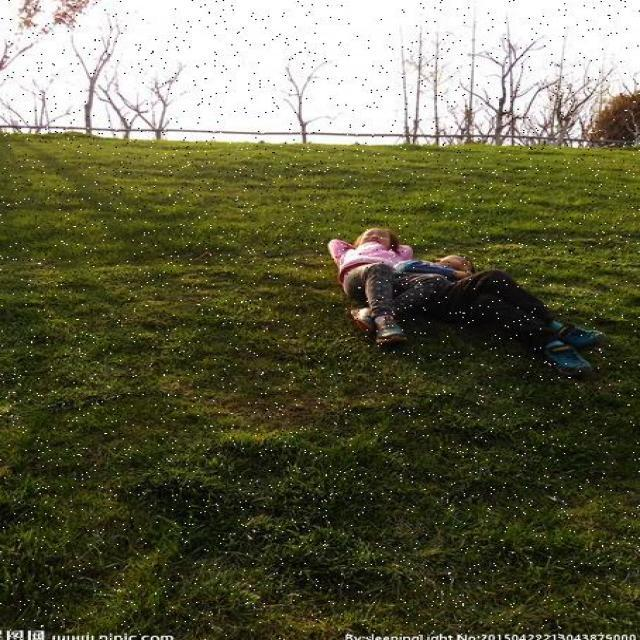fall: (426, 248, 599, 384), (323, 222, 428, 347)
